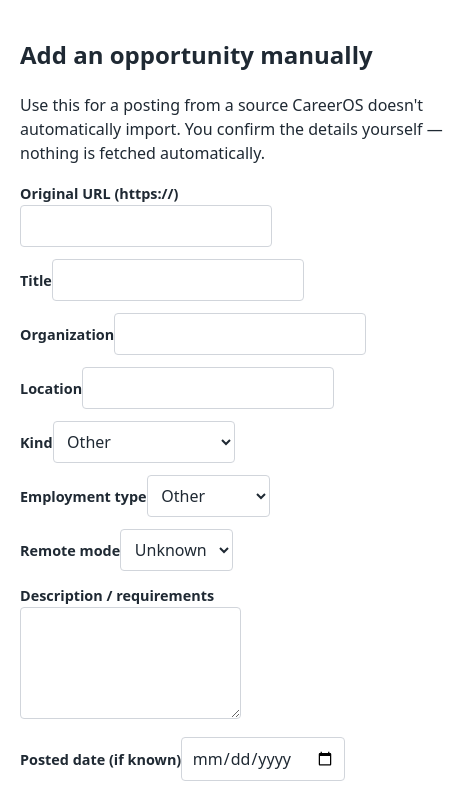
Test: ManualOpportunityFormPage › rejects submission without a valid https source URL
Type "not-a-url" into the field labelled "Original URL (https://)" at (146, 226), box 20,205 -> 272,247
(page scrolled)
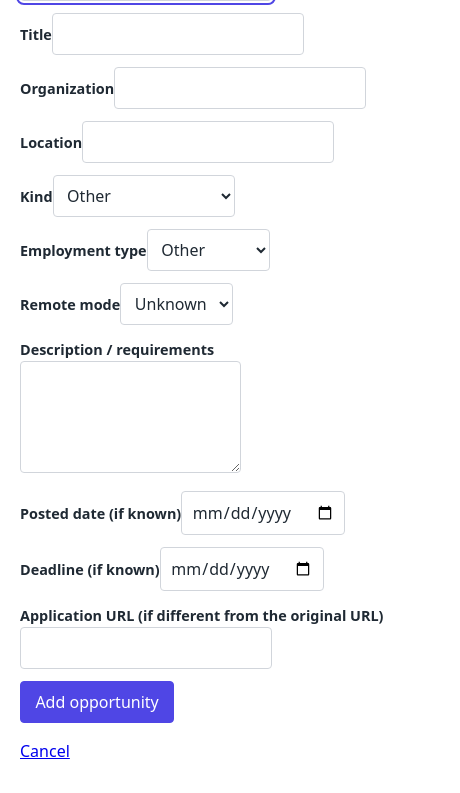
Click the button "Add opportunity" at (97, 702), box 20,681 -> 174,723
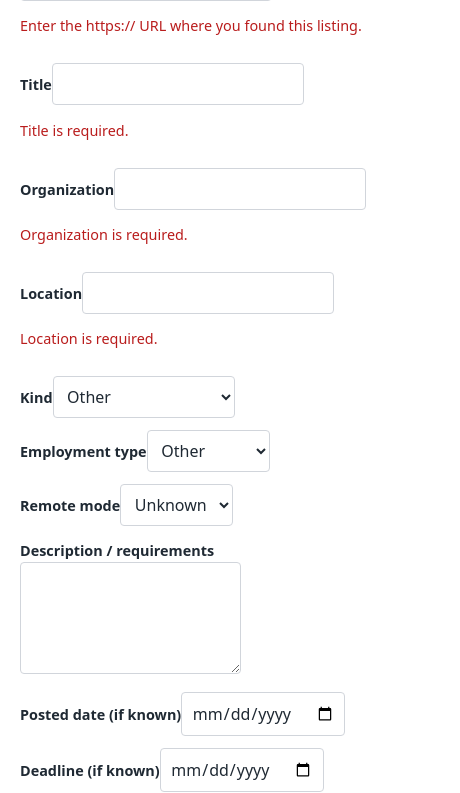
Expected: the text "Enter the https:// URL where you found this listing." is shown, 20,15 -> 404,37
